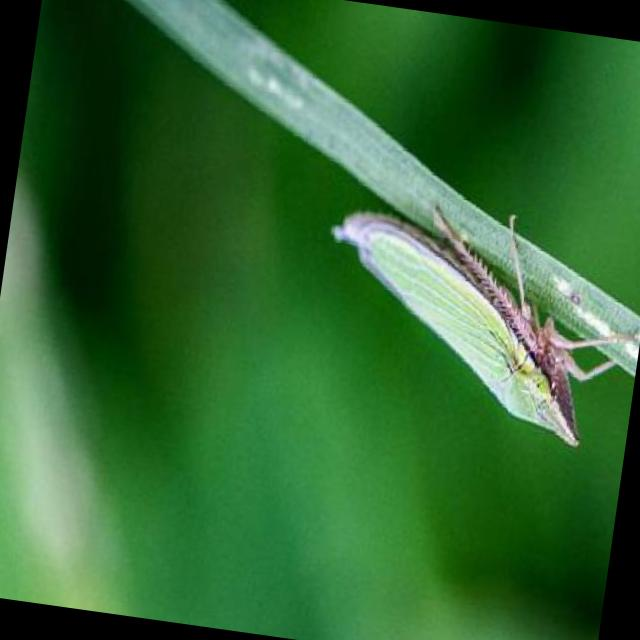green-leafhopper: (312, 181, 610, 450)
